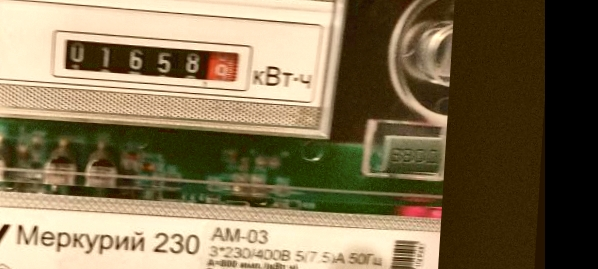0: (67, 40, 85, 62)
1: (97, 43, 112, 68)
5: (155, 49, 172, 73)
6: (126, 46, 145, 71)
8: (183, 50, 201, 73)
9: (211, 60, 228, 82)
screen: (47, 25, 256, 96)
